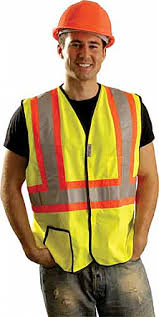epi: (5, 1, 159, 315)
